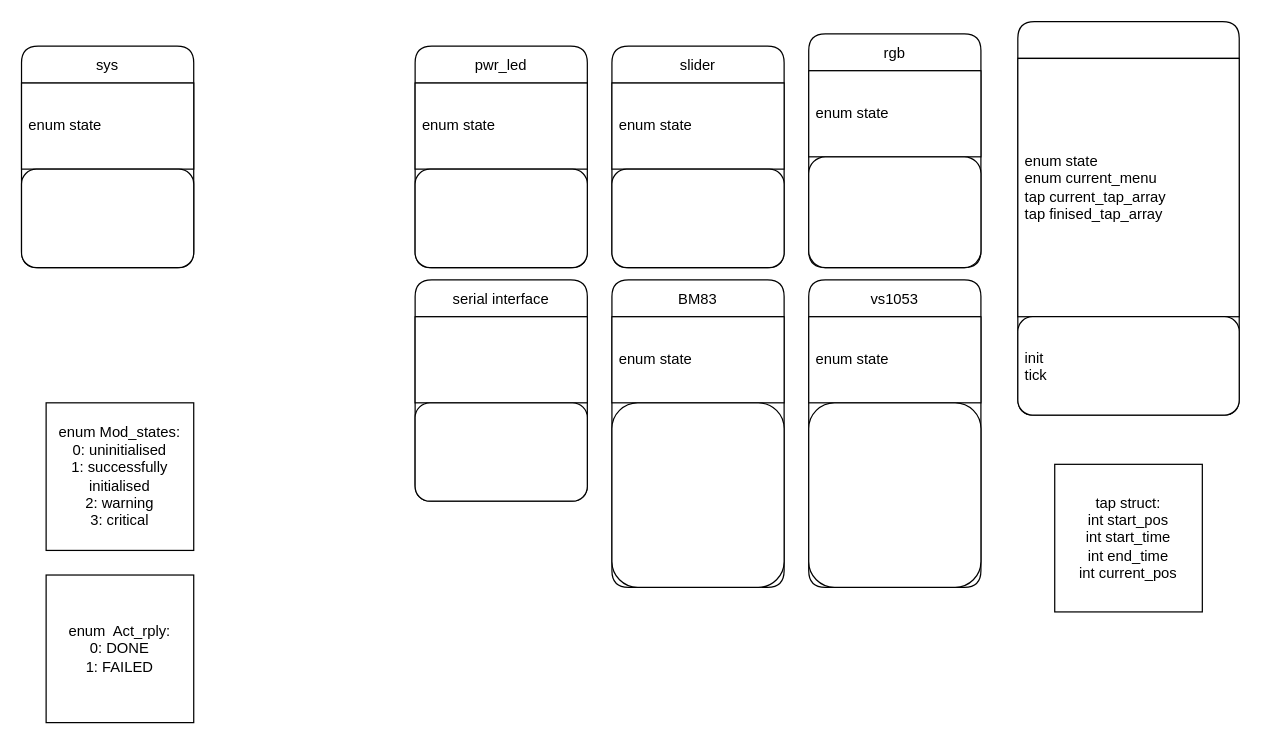
Image size: 1261x744. Some labels were removed from this diagram. The shapes that lost their labels are listed below. From the top down, each one's box as (x1, y1, x2, y2) in pixels, then its label:
(20, 168, 194, 268): init tick get_bat_level get_chrg_state set_dbg_led
(414, 168, 587, 268): init tick set_brightness get_brightness
(611, 168, 784, 268): init tick get_touch_points
(807, 156, 981, 268): init tick enable set pattern get_pattern
(1017, 20, 1239, 415): menus
(414, 315, 587, 403): enum state enum connection
(414, 402, 587, 501): init tick send message
(611, 402, 784, 587): init tick pause play prev next set_vol
(807, 402, 981, 587): init tick pause play prev next set_vol start_song
